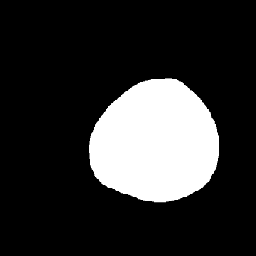mass: (95, 80, 211, 196)
